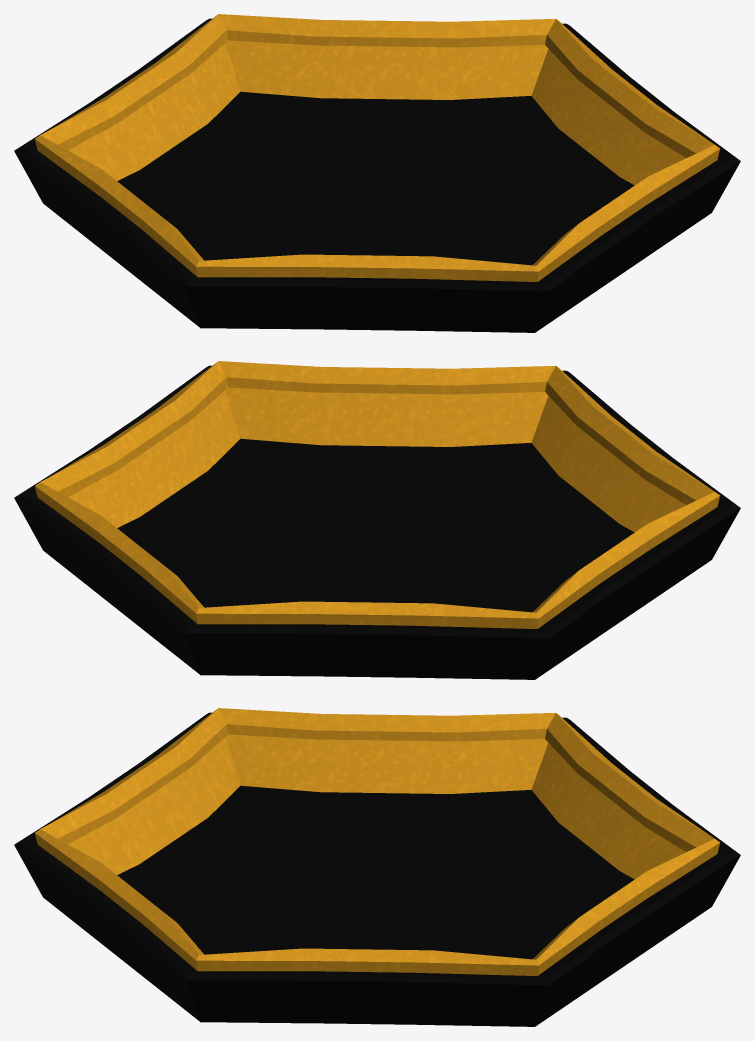
Rendered from Petri.fbx.
The picture shows the model from 3 angles, top to bottom: view 1: azimuth 30°, elevation 25°; view 2: azimuth 150°, elevation 25°; view 3: azimuth 270°, elevation 25°; orthographic projection.
Visible parts, largest first — view 1: Case; view 2: Case; view 3: Case.
Part boxes in pixels (x1,y1,x2,y2): Case: [14, 14, 740, 332]; Case: [14, 361, 740, 679]; Case: [14, 708, 740, 1026].
Size of the model in its own units: 2770 by 341 by 3138.
Materials: 2 (1 with a texture image).
